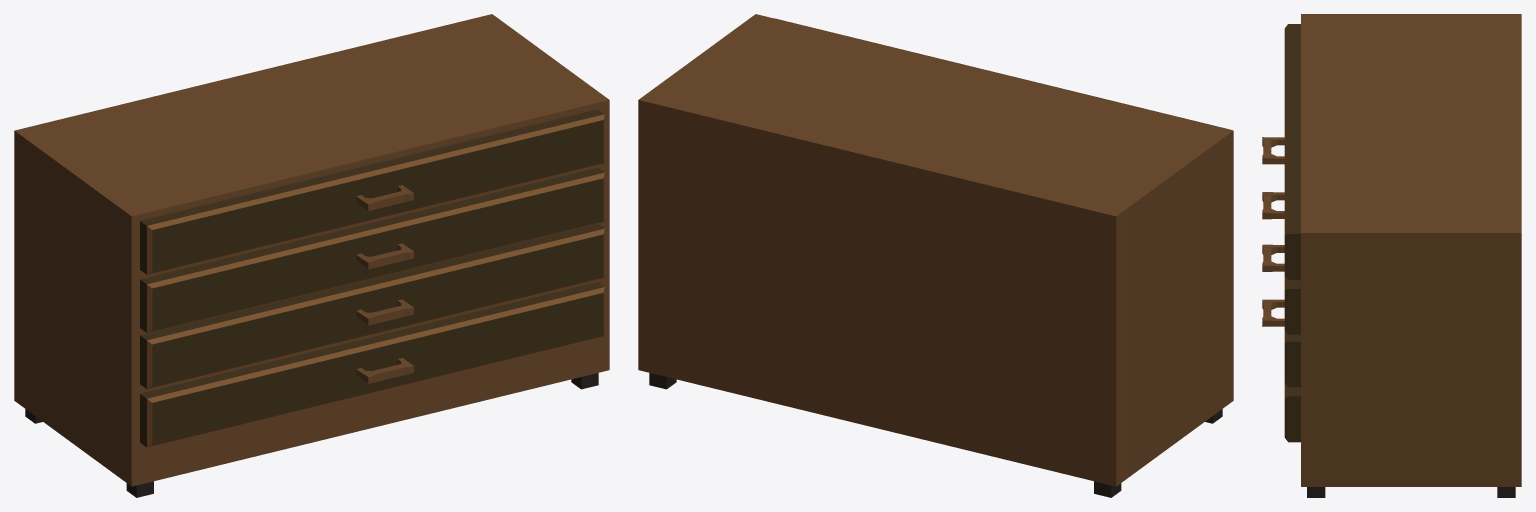
File: Prop_Cabinet_03.fbx
3 views of the same model, side by side, from view 1: azimuth 30°, elevation 25°; view 2: azimuth 150°, elevation 25°; view 3: azimuth 270°, elevation 25° (orthographic). The views are drawn at different scales.
Visible parts, largest first — view 1: Prop_Cabinet_03; view 2: Prop_Cabinet_03; view 3: Prop_Cabinet_03.
Part boxes in pixels (bbox=[...]): Prop_Cabinet_03: bbox=[14, 14, 609, 497]; Prop_Cabinet_03: bbox=[638, 14, 1233, 497]; Prop_Cabinet_03: bbox=[1262, 14, 1521, 497].
Bounding box in the file's own units: 140 × 80 × 70.
